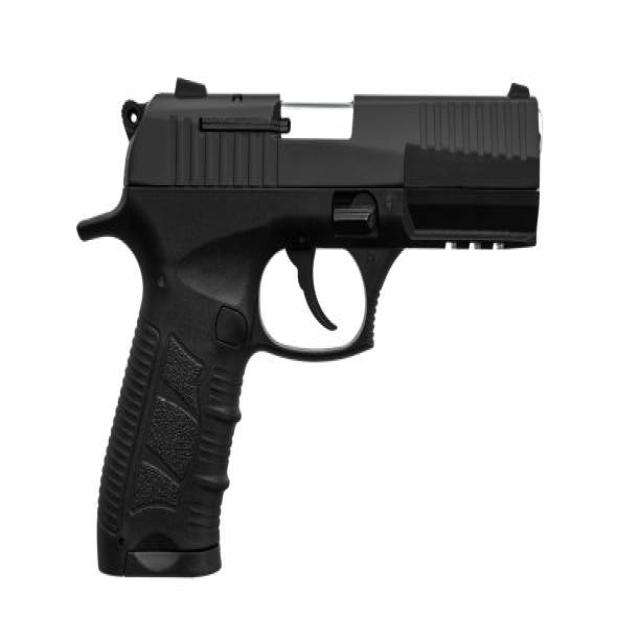pistol: (75, 73, 545, 605)
